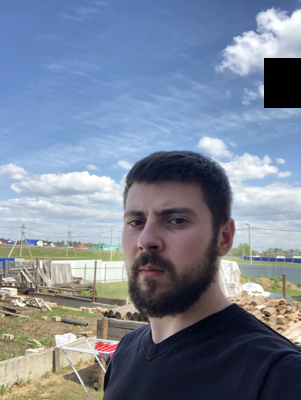without_mask: (122, 196, 210, 319)
